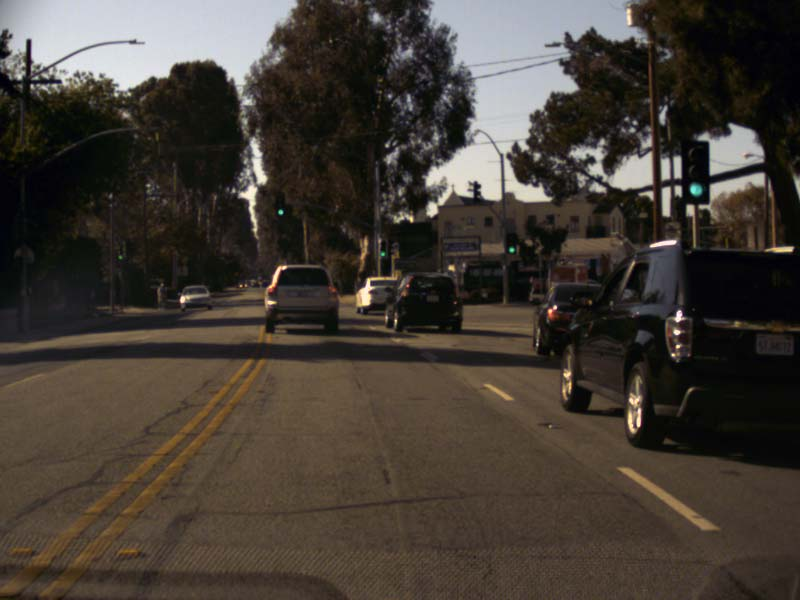Green: (682, 139, 708, 202), (275, 196, 284, 218), (507, 233, 515, 253), (380, 240, 385, 257), (117, 246, 122, 260)
